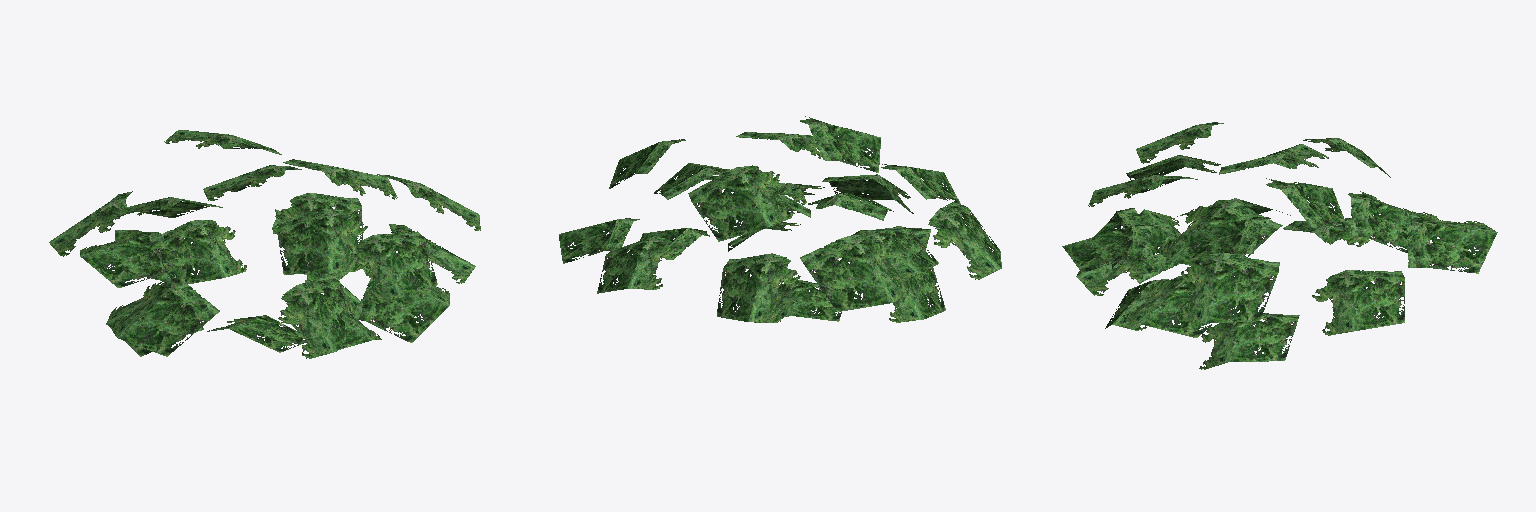
The picture shows the model from 3 angles: view 1: azimuth 30°, elevation 25°; view 2: azimuth 150°, elevation 25°; view 3: azimuth 270°, elevation 25°; orthographic projection.
Visible parts, largest first — view 1: polySurface185; view 2: polySurface185; view 3: polySurface185.
Part boxes in pixels (x1,y1,x2,y2): polySurface185: (49, 130, 480, 358); polySurface185: (559, 116, 1001, 322); polySurface185: (1062, 122, 1497, 369).
Bounding box in the file's own units: 14.93 × 8.27 × 15.1.
Materials: 1 (1 with a texture image).